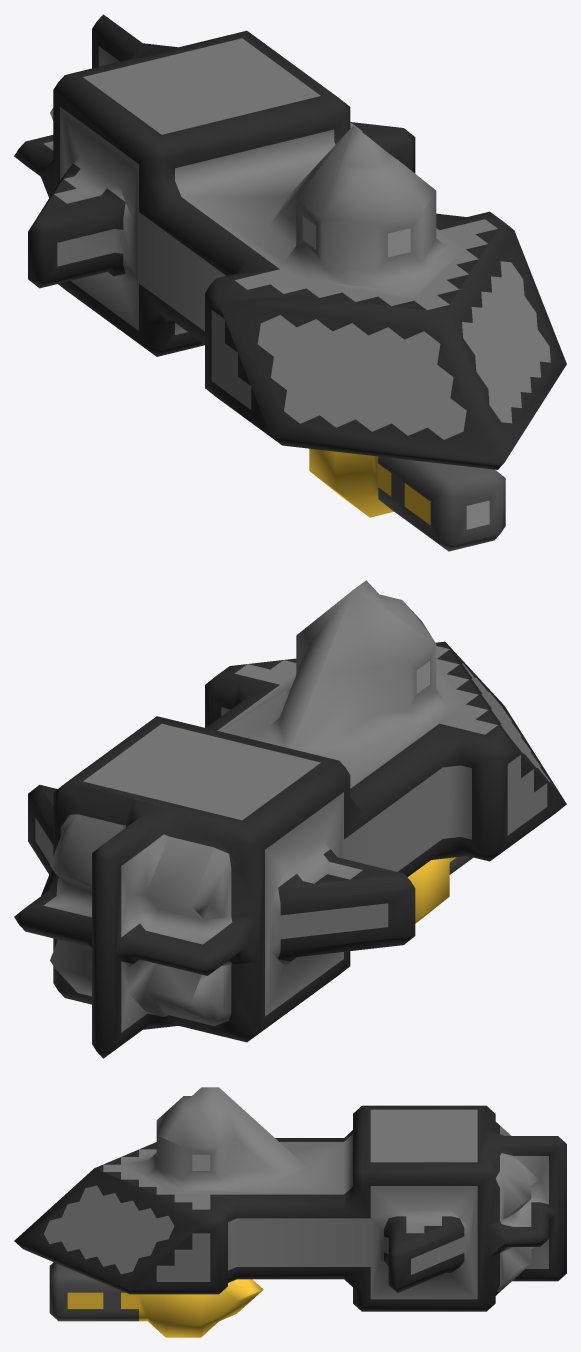
File: mechyrdia-1-pico-class.obj
3 views of the same model, one above another, from view 1: azimuth 30°, elevation 25°; view 2: azimuth 150°, elevation 25°; view 3: azimuth 270°, elevation 25° (orthographic). The views are drawn at different scales.
Size of the model in its own units: 17 by 15 by 31.
1 material, 1 textured.
